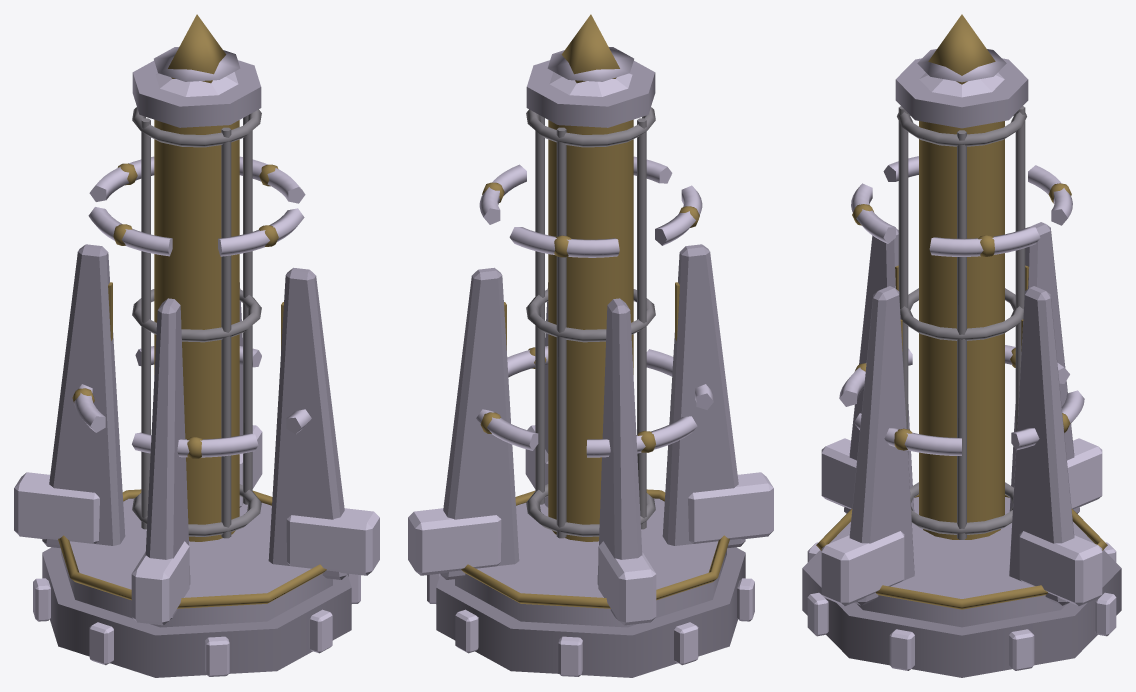
Rendered from conduit.glb.
3 views of the same model, side by side, from view 1: azimuth 30°, elevation 25°; view 2: azimuth 150°, elevation 25°; view 3: azimuth 270°, elevation 25° (orthographic).
Visible parts, largest first — view 1: glow*0.006, conduit*1.2, conduit*1.001, conduit*1.004, conduit*1.7, conduit*1.005, conduit*2.009, conduit*1.006, conduit*2.011, gunmetal*1.5, conduit*2.012, gunmetal*1.003 (+19 smaller); view 2: glow*0.006, conduit*1.2, conduit*1.005, conduit*1.003, conduit*1.7, conduit*1.004, conduit*2.010, conduit*1.006, conduit*2.012, gunmetal*1.002, gunmetal*1.003, conduit*2.011 (+21 smaller); view 3: glow*0.006, conduit*1.2, conduit*1.003, conduit*1.001, conduit*1.7, conduit*1.006, conduit*2.009, conduit*2.010, gunmetal*1.001, conduit*1.004, conduit*1.005, glow*0.3 (+20 smaller).
Boxes of the visible parts, box(x1,y1,x2,y2) form: glow*0.006: box(154, 119, 239, 541); conduit*1.2: box(42, 547, 351, 677); conduit*1.001: box(268, 267, 347, 579); conduit*1.004: box(42, 244, 125, 548); conduit*1.7: box(61, 498, 332, 627); conduit*1.005: box(145, 298, 190, 619); conduit*2.009: box(286, 508, 379, 575); conduit*1.006: box(132, 60, 261, 127); conduit*2.011: box(14, 472, 99, 543); gunmetal*1.5: box(221, 127, 231, 538); conduit*2.012: box(131, 541, 189, 625); gunmetal*1.003: box(141, 118, 150, 529); glow*0.006: box(548, 119, 633, 541); conduit*1.2: box(436, 547, 745, 677); conduit*1.005: box(662, 244, 745, 548); conduit*1.003: box(440, 267, 519, 579); conduit*1.7: box(455, 498, 726, 627); conduit*1.004: box(597, 298, 642, 619); conduit*2.010: box(408, 508, 501, 575); conduit*1.006: box(526, 60, 655, 127); conduit*2.012: box(688, 472, 773, 543); gunmetal*1.002: box(556, 127, 566, 538); gunmetal*1.003: box(637, 118, 646, 529); conduit*2.011: box(598, 541, 656, 625); glow*0.006: box(919, 121, 1004, 539); conduit*1.2: box(802, 550, 1121, 677); conduit*1.003: box(1009, 286, 1074, 605); conduit*1.001: box(849, 286, 914, 605); conduit*1.7: box(829, 497, 1094, 627); conduit*1.006: box(895, 58, 1028, 128); conduit*2.009: box(821, 531, 904, 605); conduit*2.010: box(1019, 531, 1102, 605); gunmetal*1.001: box(957, 130, 966, 539); conduit*1.004: box(1009, 222, 1079, 513); conduit*1.005: box(844, 228, 914, 513); glow*0.3: box(816, 494, 1107, 609).
Size of the model in its own units: 1.64 by 3.38 by 1.64.
